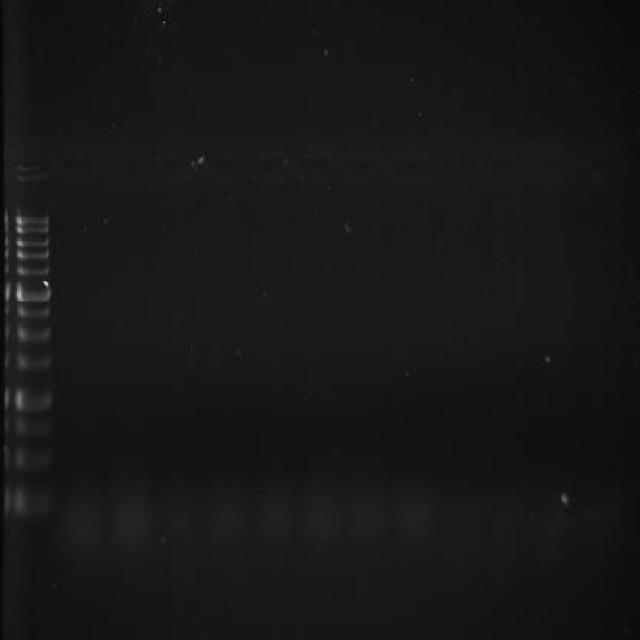L: (9, 140, 636, 196)
M: (10, 198, 56, 537)
P: (12, 484, 54, 520), (14, 382, 54, 413), (14, 442, 52, 472), (14, 348, 54, 372), (14, 415, 51, 440), (13, 280, 52, 302), (14, 322, 52, 344), (14, 208, 51, 226), (15, 303, 52, 320), (13, 236, 52, 250), (14, 263, 52, 277), (14, 248, 52, 261), (14, 224, 52, 236)
Pc: (54, 147, 98, 186), (294, 145, 336, 184), (438, 144, 477, 186), (248, 147, 289, 186), (13, 144, 50, 187), (105, 146, 146, 183), (152, 146, 194, 180), (200, 146, 242, 179), (344, 147, 382, 180), (584, 148, 622, 181), (390, 150, 430, 178), (489, 148, 522, 177), (538, 149, 570, 177)
